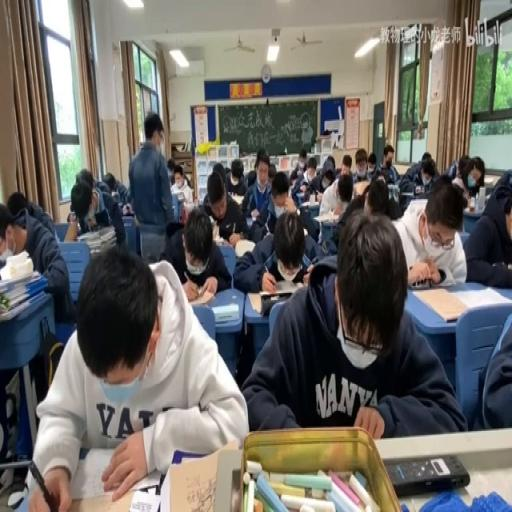calculator: (162, 441, 238, 512), (248, 286, 302, 314), (453, 286, 508, 310), (408, 269, 454, 289), (298, 206, 320, 240), (184, 287, 214, 306), (212, 302, 238, 322), (234, 238, 256, 256), (482, 184, 498, 204), (95, 225, 115, 240), (296, 196, 319, 209), (312, 212, 338, 222), (88, 245, 110, 256), (230, 192, 244, 206), (210, 219, 219, 240), (462, 206, 482, 215), (122, 202, 133, 215), (214, 234, 228, 244), (302, 252, 312, 266), (387, 182, 400, 192), (174, 189, 184, 201), (483, 175, 496, 183), (298, 183, 308, 192), (401, 191, 417, 196), (112, 189, 118, 201)
paper: (27, 248, 246, 509), (242, 206, 461, 438), (1, 194, 74, 324), (128, 111, 174, 260), (162, 203, 228, 299), (461, 170, 512, 288), (473, 302, 512, 432), (67, 171, 124, 246), (330, 174, 372, 250), (397, 154, 441, 210), (244, 155, 274, 233), (301, 155, 333, 199), (202, 164, 230, 210), (170, 162, 192, 212), (364, 175, 390, 213), (224, 155, 247, 195), (376, 145, 399, 184), (446, 154, 469, 184), (288, 148, 307, 183), (7, 191, 30, 219), (469, 156, 485, 192), (352, 147, 369, 179), (493, 168, 512, 195), (75, 166, 93, 190), (254, 148, 270, 171), (272, 176, 288, 199), (366, 150, 376, 174), (102, 172, 116, 189), (341, 154, 351, 176), (245, 168, 256, 186), (422, 168, 434, 183), (267, 164, 277, 180), (322, 174, 332, 188), (167, 161, 176, 176), (66, 209, 76, 221), (421, 150, 430, 160), (376, 175, 386, 183)
person: (386, 454, 470, 496), (240, 230, 246, 239)
